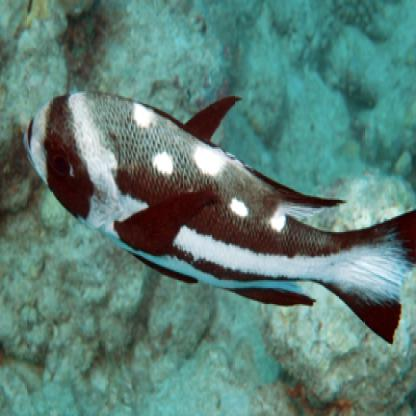snapper: (20, 70, 416, 355)
